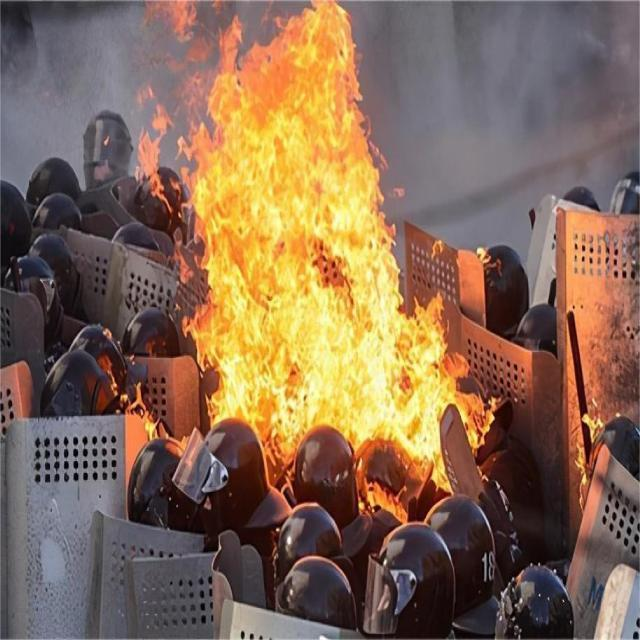Fire: (136, 0, 491, 459)
